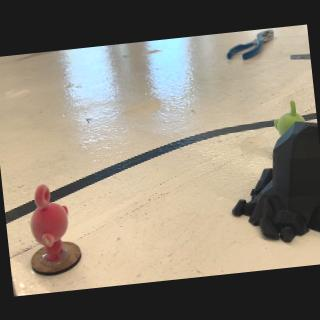teletubby: (30, 184, 68, 261), (273, 100, 305, 135)
